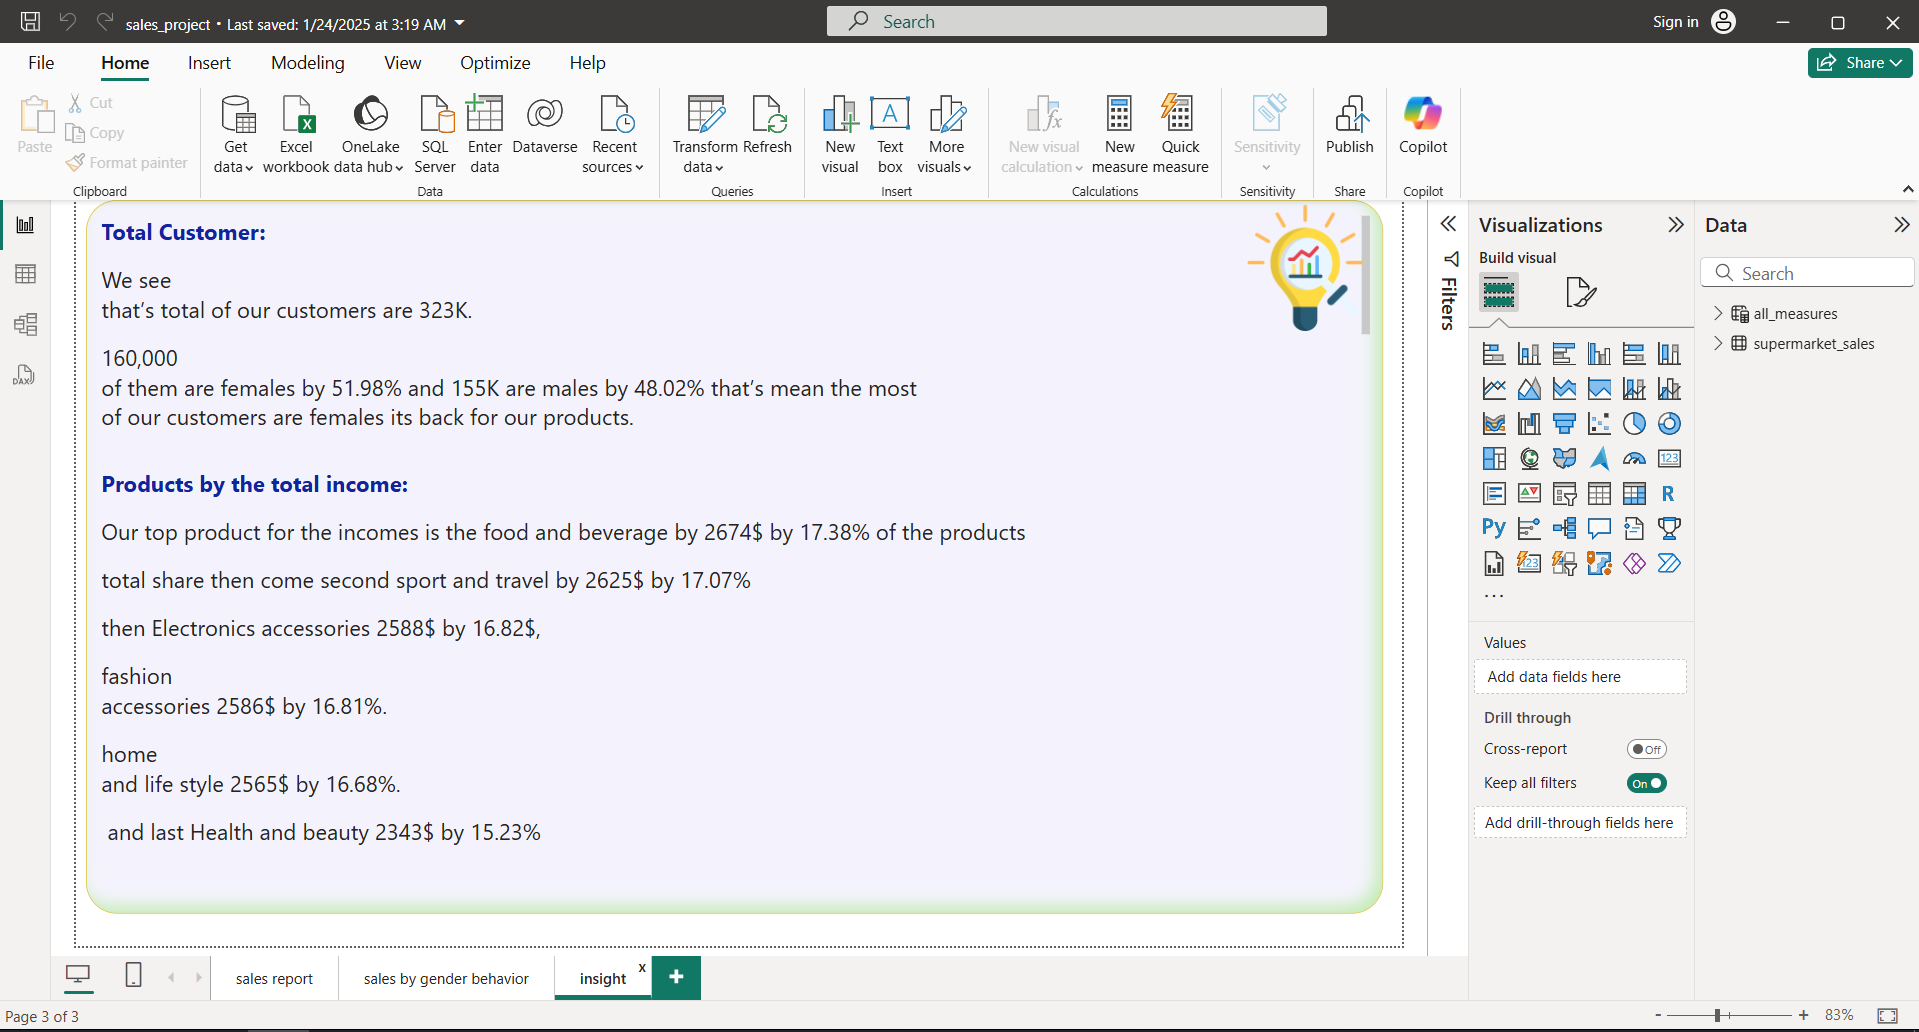

The dashboard page shown, as its layout file describes it:
{"tool":"powerbi","page":{"name":"insight","canvas":[1280,720],"ordinal":2},"visuals":[{"type":"textbox","box":[9.7,0,1252.3,688.9],"z":0},{"type":"image","box":[1120.8,0,131.5,131.5],"z":1000}]}

Visuals, with their boxes on the page's 1280x720 design canvas (x1, y1, x2, y2). These are canvas units, not pixel positions in the 1919x1032 screenshot, which may show the page scaled, cropped or inside an application window:
textbox: {"x1": 10, "y1": 0, "x2": 1262, "y2": 689}
image: {"x1": 1121, "y1": 0, "x2": 1252, "y2": 132}
